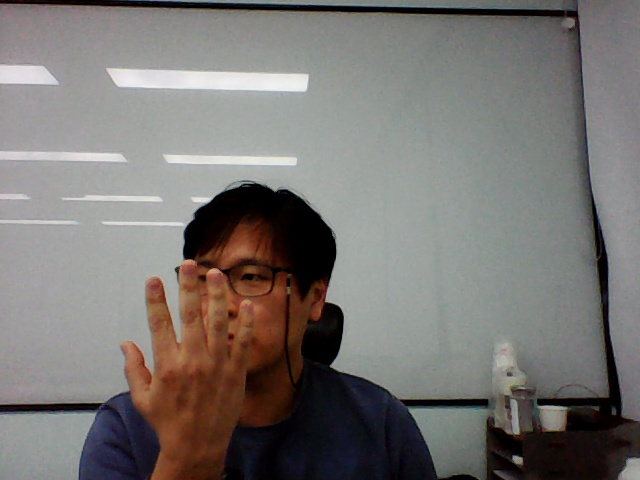five: (110, 249, 260, 454)
